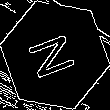N_E: (26, 27, 84, 83)
